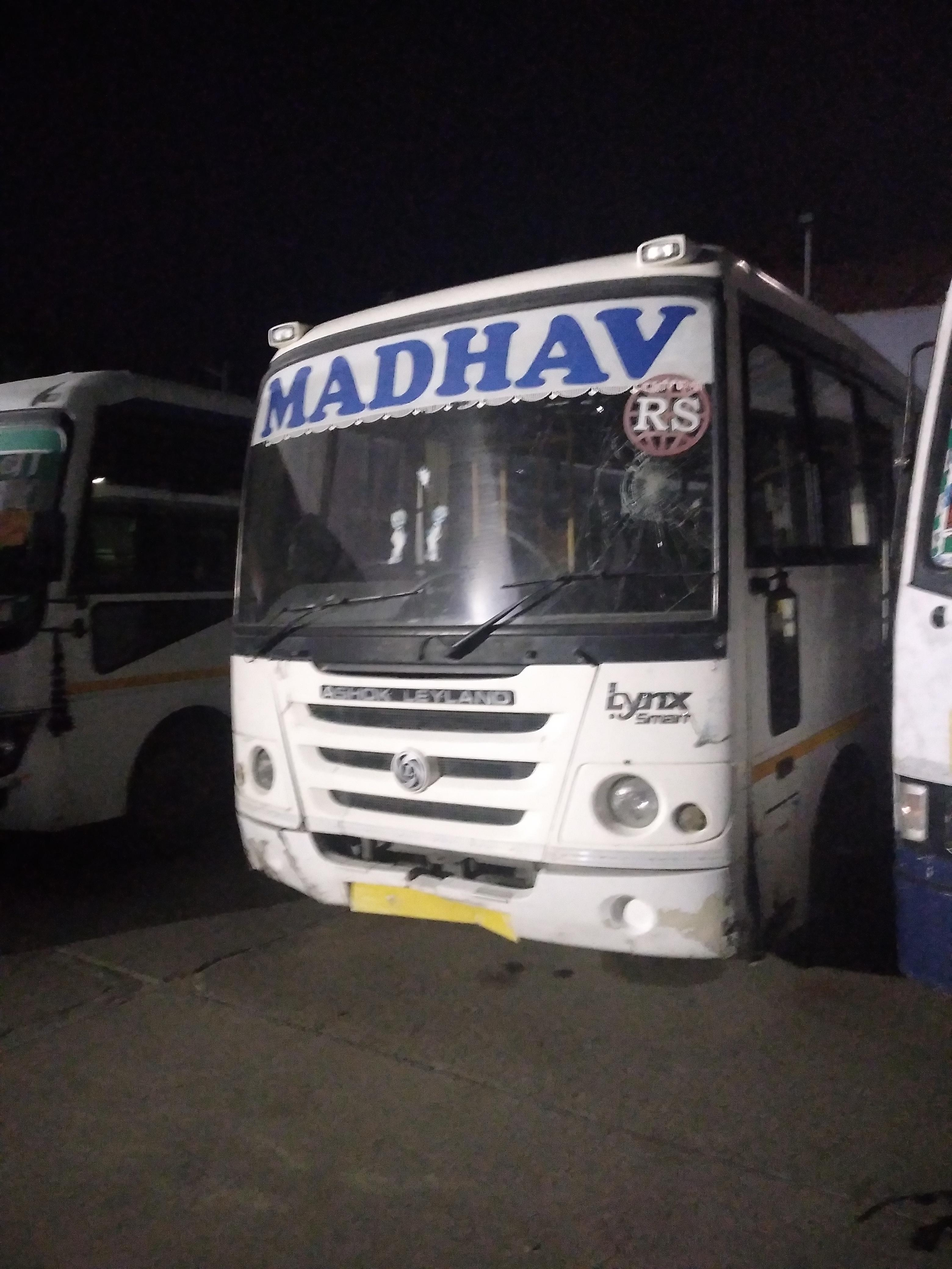Non-emergency: (224, 179, 849, 1097), (0, 319, 194, 935)
